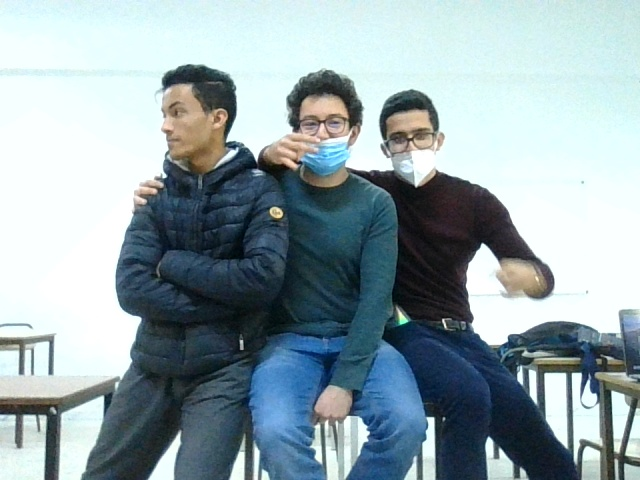mask_weared_incorrect: (294, 104, 353, 177), (382, 121, 440, 185)
without_mask: (153, 101, 214, 159)
